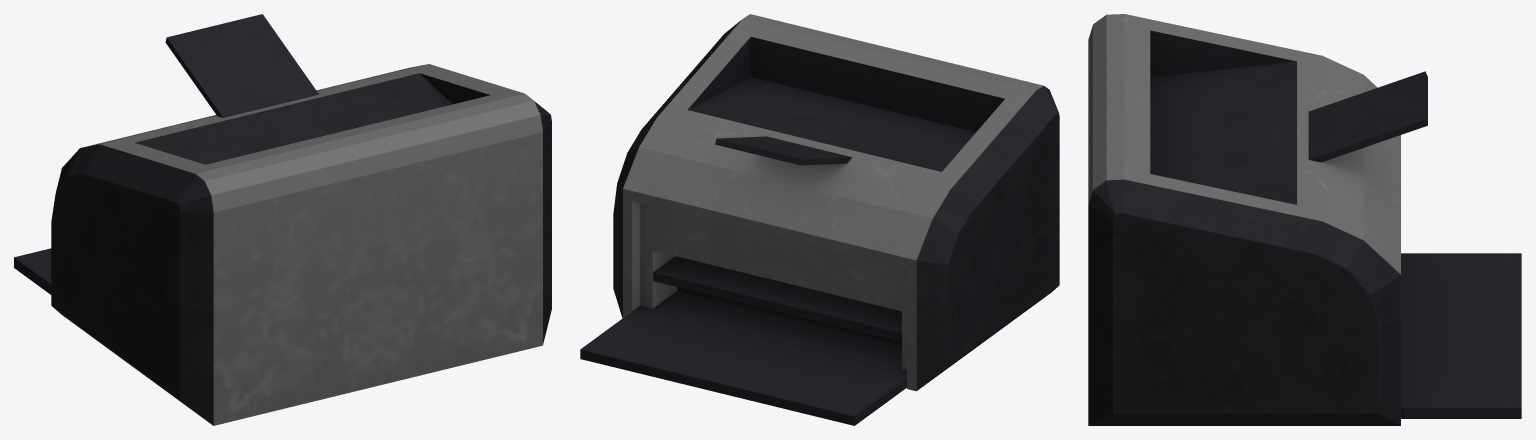
File: Printer.fbx
3 renders of one model, left to right at view 1: azimuth 30°, elevation 25°; view 2: azimuth 150°, elevation 25°; view 3: azimuth 270°, elevation 25°, orthographic. The views are drawn at different scales.
Visible parts, largest first — view 1: Cube.002; view 2: Cube.002; view 3: Cube.002.
Part boxes in pixels (x1,y1,x2,y2): Cube.002: (14,14,551,425); Cube.002: (580,14,1059,425); Cube.002: (1088,14,1521,425).
Bounding box in the file's own units: 282 × 174 × 276.
1 material, 1 textured.
